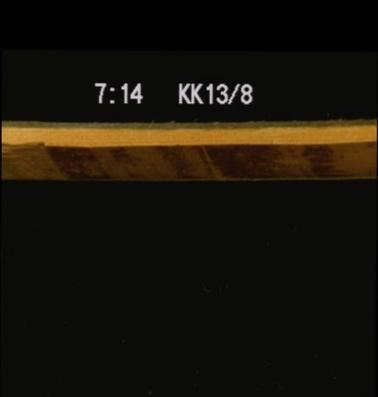wave: (0, 137, 376, 175)
